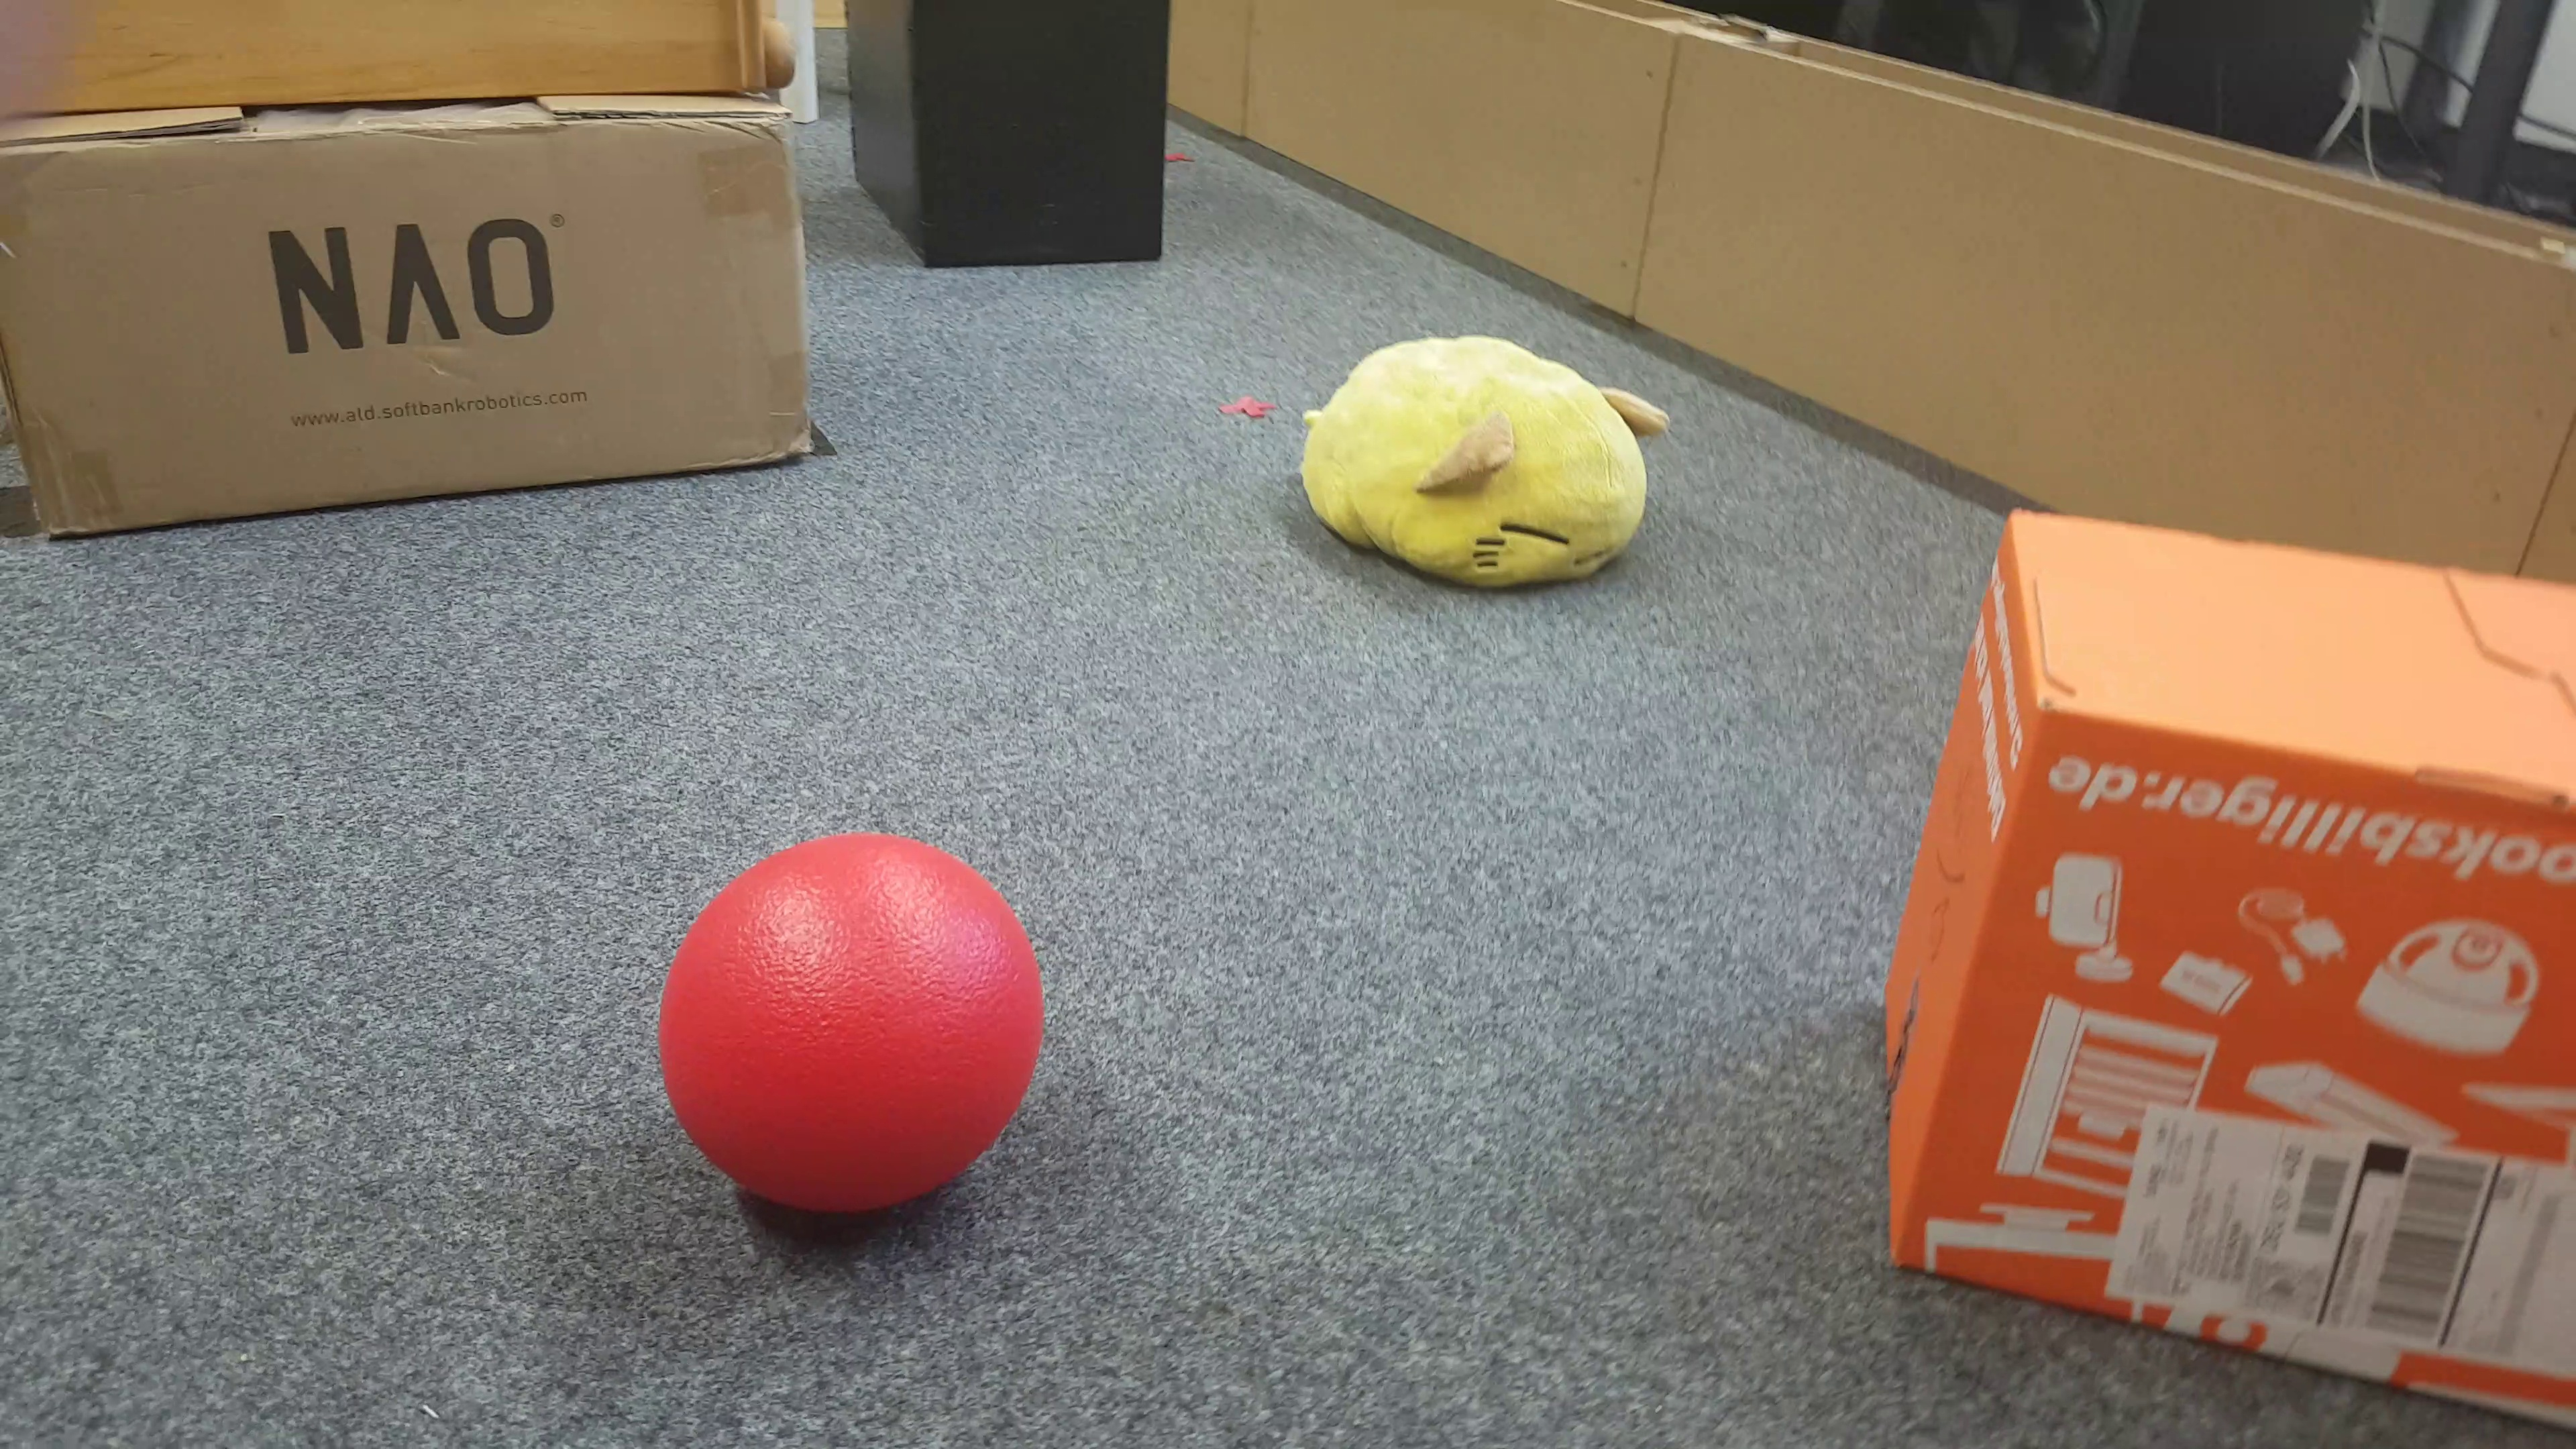grasp: (1293, 338, 1665, 594)
kick: (653, 830, 1056, 1226)
push: (1877, 508, 2576, 1440), (840, 9, 1168, 280)
